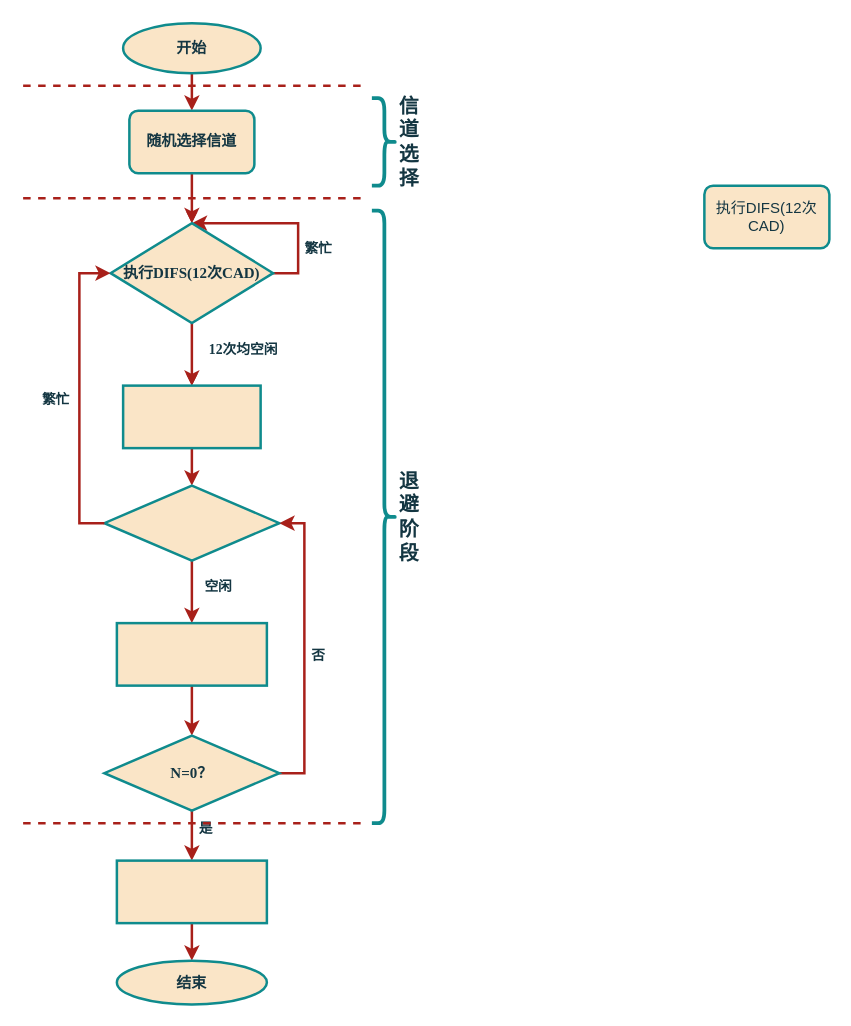
Some shapes in this 851 by 1026 pixel diagram are drawn without their labels. Here are the shapes that lost their labels. From the top down, the centre of each, then its label:
the point at 191,416: 生成退避次数N
the point at 191,522: 对应信道CAD
the point at 191,653: 退避次数N-1
the point at 191,891: 发送数据
